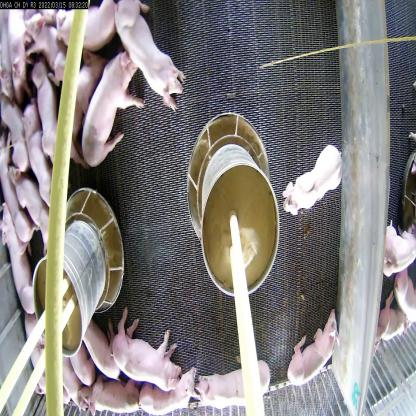Pig: (107, 0, 187, 122), (83, 42, 142, 172), (273, 127, 342, 233), (111, 303, 183, 394), (0, 198, 40, 317), (193, 358, 271, 416), (287, 303, 339, 384), (54, 10, 121, 52), (79, 370, 140, 415), (140, 374, 202, 412), (9, 7, 31, 103)
